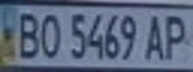4: (84, 10, 106, 61)
5: (63, 9, 87, 60)
6: (103, 10, 124, 61)
9: (118, 11, 142, 61)
A: (142, 11, 169, 61)
B: (12, 8, 42, 60)
O: (36, 9, 63, 60)
P: (160, 11, 193, 61)
